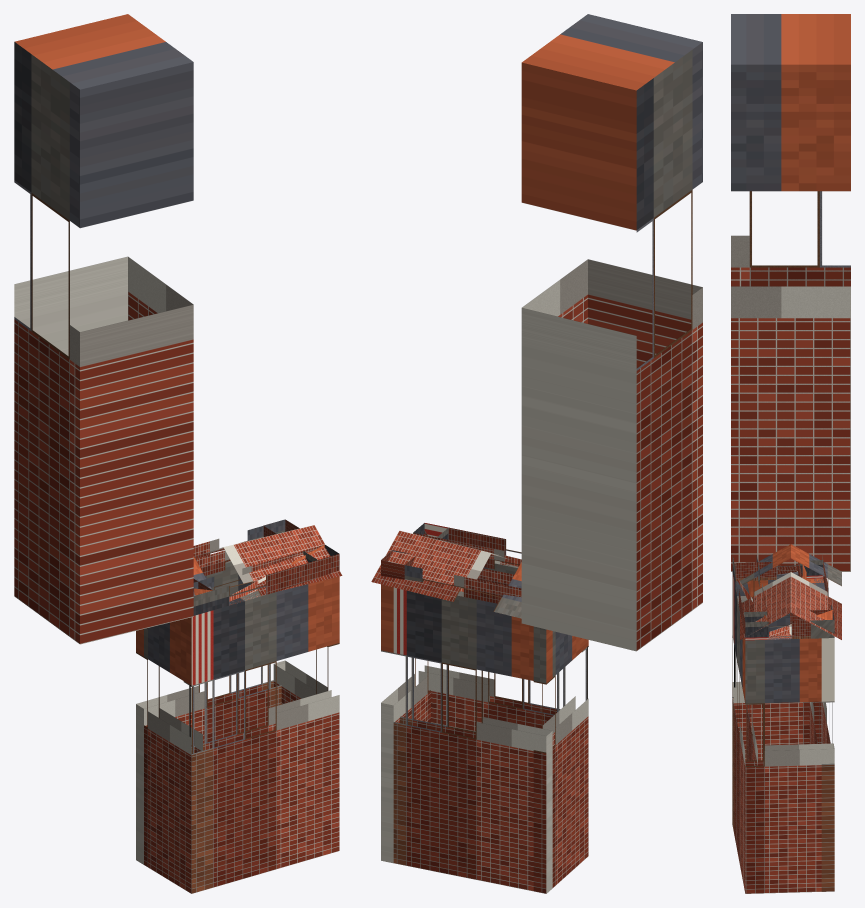
3 views of the same model, side by side, from view 1: azimuth 30°, elevation 25°; view 2: azimuth 150°, elevation 25°; view 3: azimuth 270°, elevation 25° (orthographic). The views are drawn at different scales.
Parts seen in each view (by area): view 1: 1132023211__chimney_0_xb, 1132023211__wall_1_xb, 1132023211__wall_0_xb, 1132023211__wall_3_xb, 1132023211_roof_-1_xb, 1132023211__cornice_1, 1132023211__wall_2_xb, 1132023211__cornice_3; view 2: 1132023211__chimney_0_xb, 1132023211__wall_3_xb, 1132023211__wall_0_xb, 1132023211__wall_1_xb, 1132023211_roof_1_xb, 1132023211__wall_2_xb, 1132023211__cornice_3, 1132023211__cornice_1, 1132023211__cornice_2; view 3: 1132023211__chimney_0_xb, 1132023211__wall_2_xb, 1132023211__wall_0_xb, 1132023211__wall_1_xb, 1132023211__wall_3_xb, 1132023211_roof_1_xb, 1132023211_roof_-1_xb, 1132023211__cornice_2, 1132023211__cornice_0, 1132023211__cornice_3, 1132023211__cornice_1.
Part boxes in pixels (x1,y1,x2,y2): 1132023211__chimney_0_xb: (14,14,193,644); 1132023211__wall_1_xb: (183,576,339,893); 1132023211__wall_0_xb: (136,617,202,893); 1132023211__wall_3_xb: (136,560,281,864); 1132023211_roof_-1_xb: (193,525,342,595); 1132023211__cornice_1: (193,544,339,615); 1132023211__wall_2_xb: (273,643,339,704); 1132023211__cornice_3: (193,519,299,575); 1132023211__chimney_0_xb: (521,14,702,651); 1132023211__wall_3_xb: (381,587,552,893); 1132023211__wall_0_xb: (533,626,588,893); 1132023211__wall_1_xb: (418,563,588,731); 1132023211_roof_1_xb: (371,530,521,618); 1132023211__wall_2_xb: (381,584,430,863); 1132023211__cornice_3: (385,550,521,603); 1132023211__cornice_1: (413,523,521,569); 1132023211__cornice_2: (381,523,448,579); 1132023211__chimney_0_xb: (731,14,850,571); 1132023211__wall_2_xb: (745,637,834,893); 1132023211__wall_0_xb: (732,572,822,760); 1132023211__wall_1_xb: (732,572,757,892); 1132023211__wall_3_xb: (809,578,834,891); 1132023211_roof_1_xb: (791,544,841,639); 1132023211_roof_-1_xb: (740,544,790,639); 1132023211__cornice_2: (743,609,833,640); 1132023211__cornice_0: (734,560,823,581); 1132023211__cornice_3: (798,554,834,638); 1132023211__cornice_1: (732,555,769,639).
Size of the model in its own units: 0.353 by 1.05 by 0.15.
Materials: 1 (1 with a texture image).
